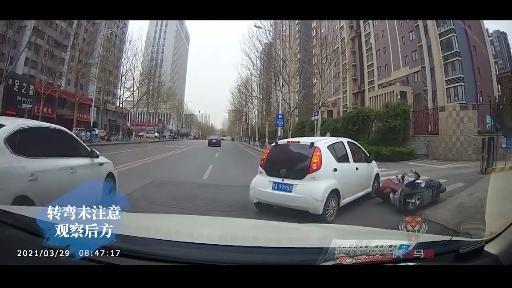Accident: (254, 127, 448, 224)
Bike: (380, 168, 446, 213)
CAR: (2, 108, 124, 209), (252, 138, 382, 216), (207, 134, 222, 149)
